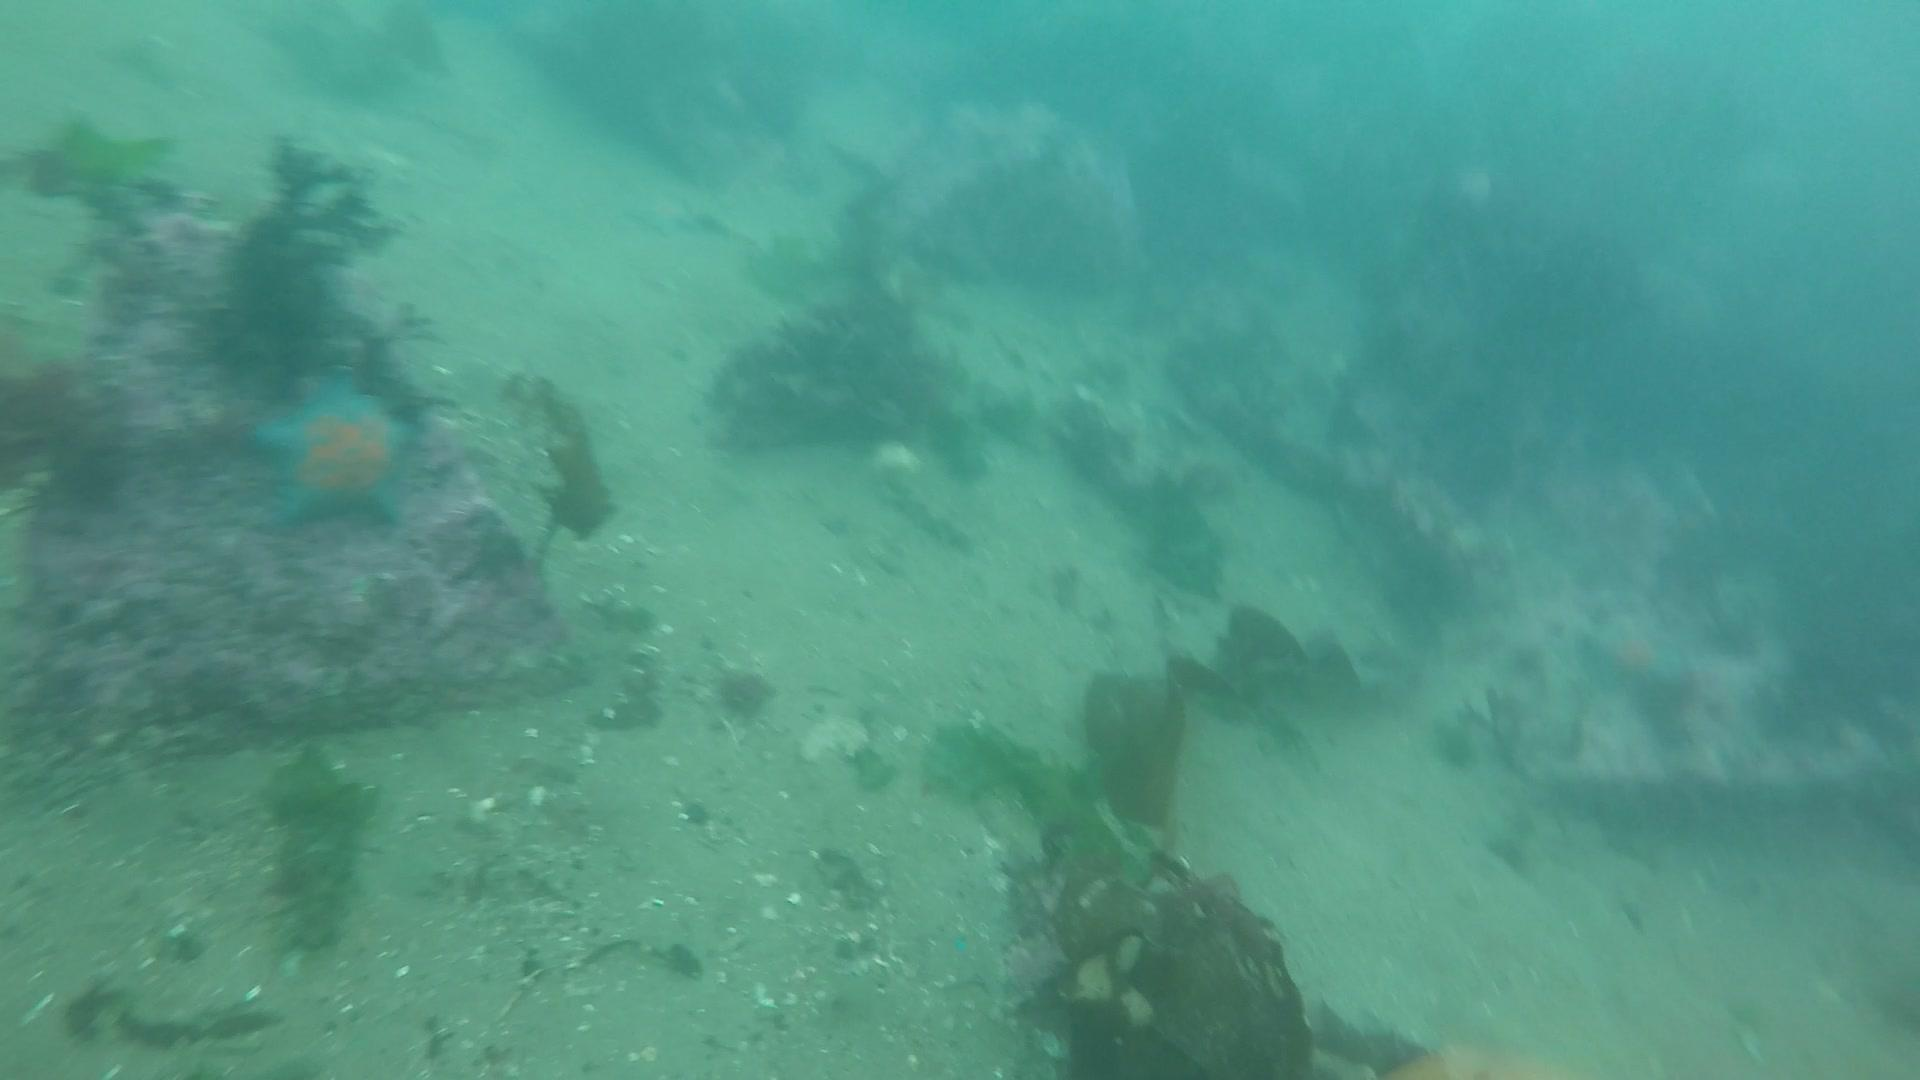holothurian: (997, 924, 1072, 1015)
starfish: (241, 371, 426, 535), (1578, 597, 1693, 709)
